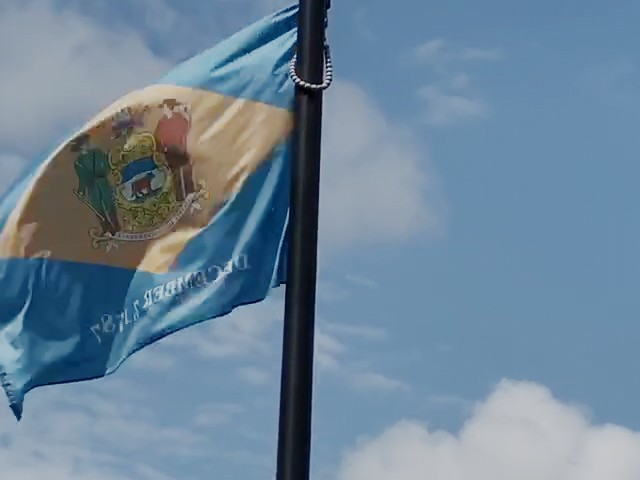Delaware flag: (4, 1, 300, 420)
